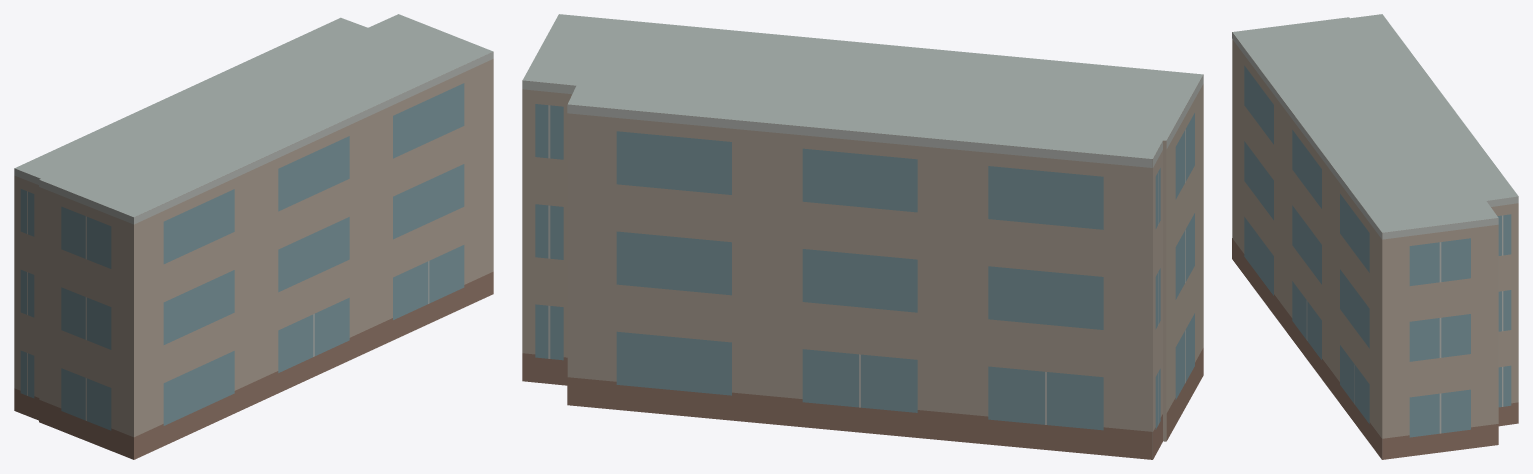
Rendered from survey-upis-32992183.glb.
The picture shows the model from 3 angles, left to right: view 1: azimuth 30°, elevation 25°; view 2: azimuth 150°, elevation 25°; view 3: azimuth 270°, elevation 25°; orthographic projection. The views are drawn at different scales.
Parts seen in each view (by area): view 1: survey-upis-32992183.tmp; view 2: survey-upis-32992183.tmp; view 3: survey-upis-32992183.tmp.
Boxes of the visible parts, x1,y1,x2,y2 form: survey-upis-32992183.tmp: [14, 14, 493, 459]; survey-upis-32992183.tmp: [522, 14, 1203, 459]; survey-upis-32992183.tmp: [1232, 14, 1518, 459].
Size of the model in its own units: 16.96 by 8.2 by 9.39.
